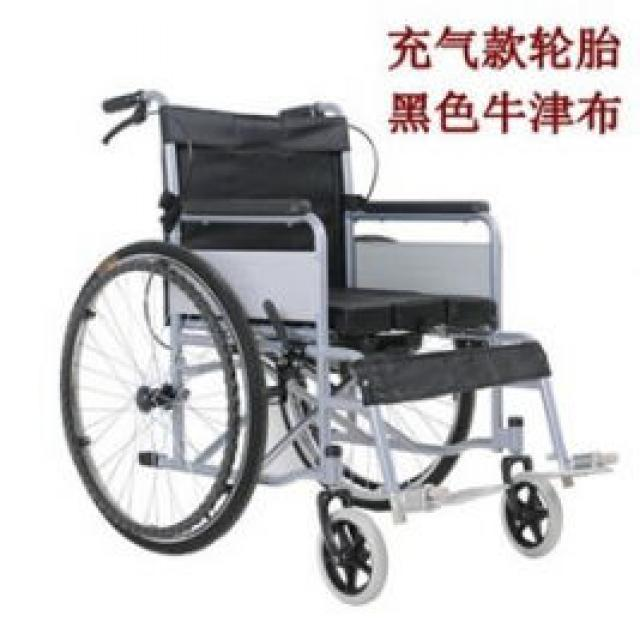wheelchairs: (62, 91, 596, 604)
